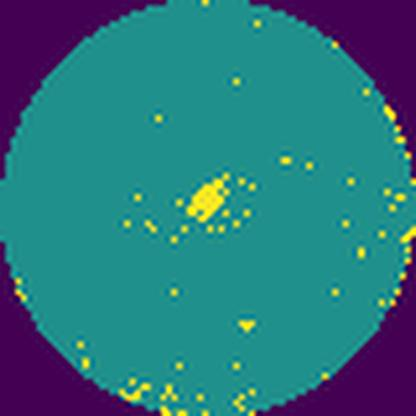Center: (184, 176, 230, 222)
